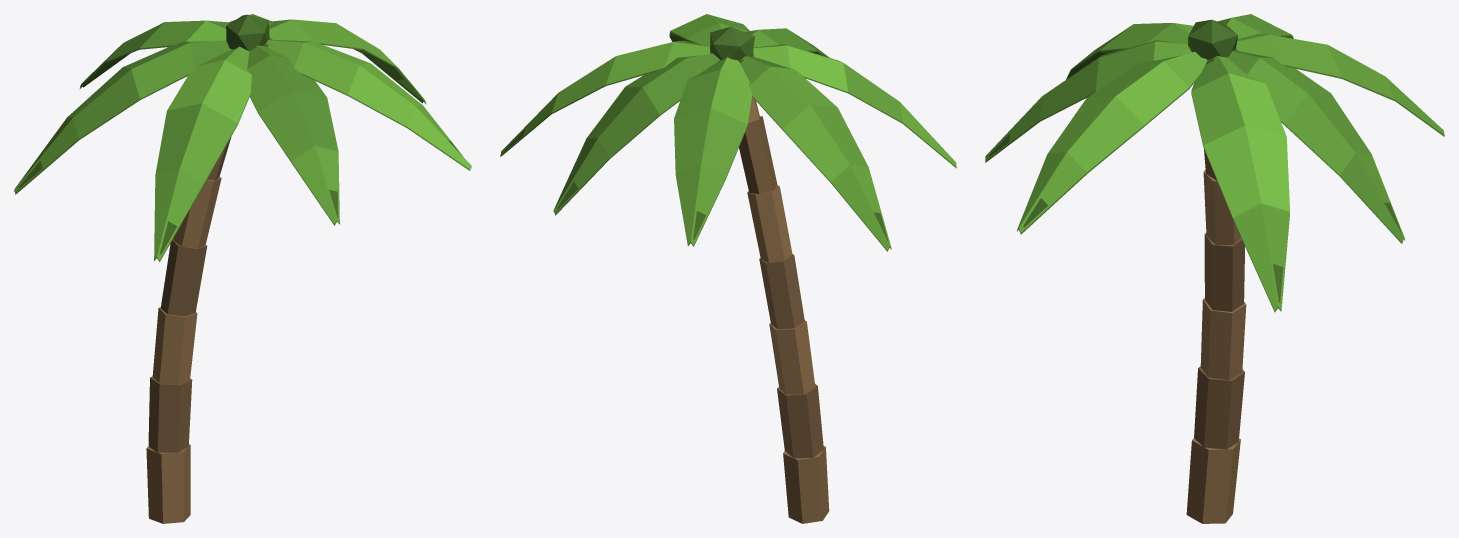
The model's file is palm_a.glb.
3 views of the same model, side by side, from view 1: azimuth 30°, elevation 25°; view 2: azimuth 150°, elevation 25°; view 3: azimuth 270°, elevation 25° (orthographic). The views are drawn at different scales.
Visible parts, largest first — view 1: palm_a; view 2: palm_a; view 3: palm_a.
Part boxes in pixels (<box>): palm_a: <box>14,14,471,523</box>; palm_a: <box>500,14,956,523</box>; palm_a: <box>985,14,1444,523</box>.
Size of the model in its own units: 4.62 by 5.26 by 4.06.
Materials: 1 (1 with a texture image).
